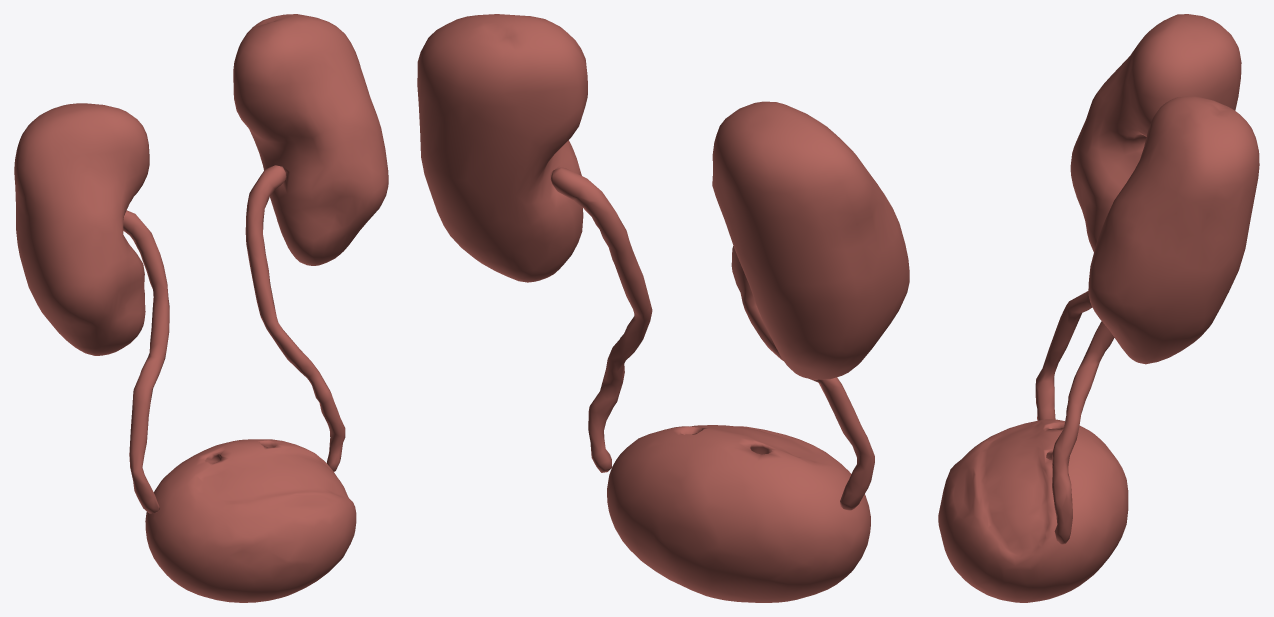
Rendered from pediatric_neonate_male.urinary.LOD0.glb.
The picture shows the model from 3 angles, left to right: view 1: azimuth 30°, elevation 25°; view 2: azimuth 150°, elevation 25°; view 3: azimuth 270°, elevation 25°; orthographic projection. The views are drawn at different scales.
Visible parts, largest first — view 1: PEDIATRIC.NEONATE.MALE.URINARY.KIDNEY_CORTEX.R, PEDIATRIC.NEONATE.MALE.URINARY.KIDNEY_CORTEX.L, PEDIATRIC.NEONATE.MALE.URINARY.URINARY_BLADDER_WALL, PEDIATRIC.NEONATE.MALE.URINARY.URETER.L, PEDIATRIC.NEONATE.MALE.URINARY.URETER.R; view 2: PEDIATRIC.NEONATE.MALE.URINARY.KIDNEY_CORTEX.R, PEDIATRIC.NEONATE.MALE.URINARY.KIDNEY_CORTEX.L, PEDIATRIC.NEONATE.MALE.URINARY.URINARY_BLADDER_WALL, PEDIATRIC.NEONATE.MALE.URINARY.URETER.L, PEDIATRIC.NEONATE.MALE.URINARY.URETER.R; view 3: PEDIATRIC.NEONATE.MALE.URINARY.KIDNEY_CORTEX.L, PEDIATRIC.NEONATE.MALE.URINARY.URINARY_BLADDER_WALL, PEDIATRIC.NEONATE.MALE.URINARY.KIDNEY_CORTEX.R, PEDIATRIC.NEONATE.MALE.URINARY.URETER.L, PEDIATRIC.NEONATE.MALE.URINARY.URETER.R.
Boxes of the visible parts, x1=… form: PEDIATRIC.NEONATE.MALE.URINARY.KIDNEY_CORTEX.R: x1=14, y1=103, x2=149, y2=355; PEDIATRIC.NEONATE.MALE.URINARY.KIDNEY_CORTEX.L: x1=233, y1=14, x2=388, y2=265; PEDIATRIC.NEONATE.MALE.URINARY.URINARY_BLADDER_WALL: x1=145, y1=439, x2=356, y2=602; PEDIATRIC.NEONATE.MALE.URINARY.URETER.L: x1=245, y1=165, x2=345, y2=471; PEDIATRIC.NEONATE.MALE.URINARY.URETER.R: x1=123, y1=210, x2=169, y2=513; PEDIATRIC.NEONATE.MALE.URINARY.KIDNEY_CORTEX.R: x1=712, y1=101, x2=909, y2=379; PEDIATRIC.NEONATE.MALE.URINARY.KIDNEY_CORTEX.L: x1=417, y1=14, x2=587, y2=282; PEDIATRIC.NEONATE.MALE.URINARY.URINARY_BLADDER_WALL: x1=607, y1=425, x2=870, y2=602; PEDIATRIC.NEONATE.MALE.URINARY.URETER.L: x1=550, y1=167, x2=652, y2=472; PEDIATRIC.NEONATE.MALE.URINARY.URETER.R: x1=731, y1=246, x2=874, y2=510; PEDIATRIC.NEONATE.MALE.URINARY.KIDNEY_CORTEX.L: x1=1088, y1=96, x2=1259, y2=364; PEDIATRIC.NEONATE.MALE.URINARY.URINARY_BLADDER_WALL: x1=938, y1=419, x2=1128, y2=602; PEDIATRIC.NEONATE.MALE.URINARY.KIDNEY_CORTEX.R: x1=1070, y1=14, x2=1241, y2=251; PEDIATRIC.NEONATE.MALE.URINARY.URETER.L: x1=1052, y1=321, x2=1114, y2=544; PEDIATRIC.NEONATE.MALE.URINARY.URETER.R: x1=1035, y1=291, x2=1092, y2=420.
Bounding box in the file's own units: 0.0724 × 0.0956 × 0.0516.
